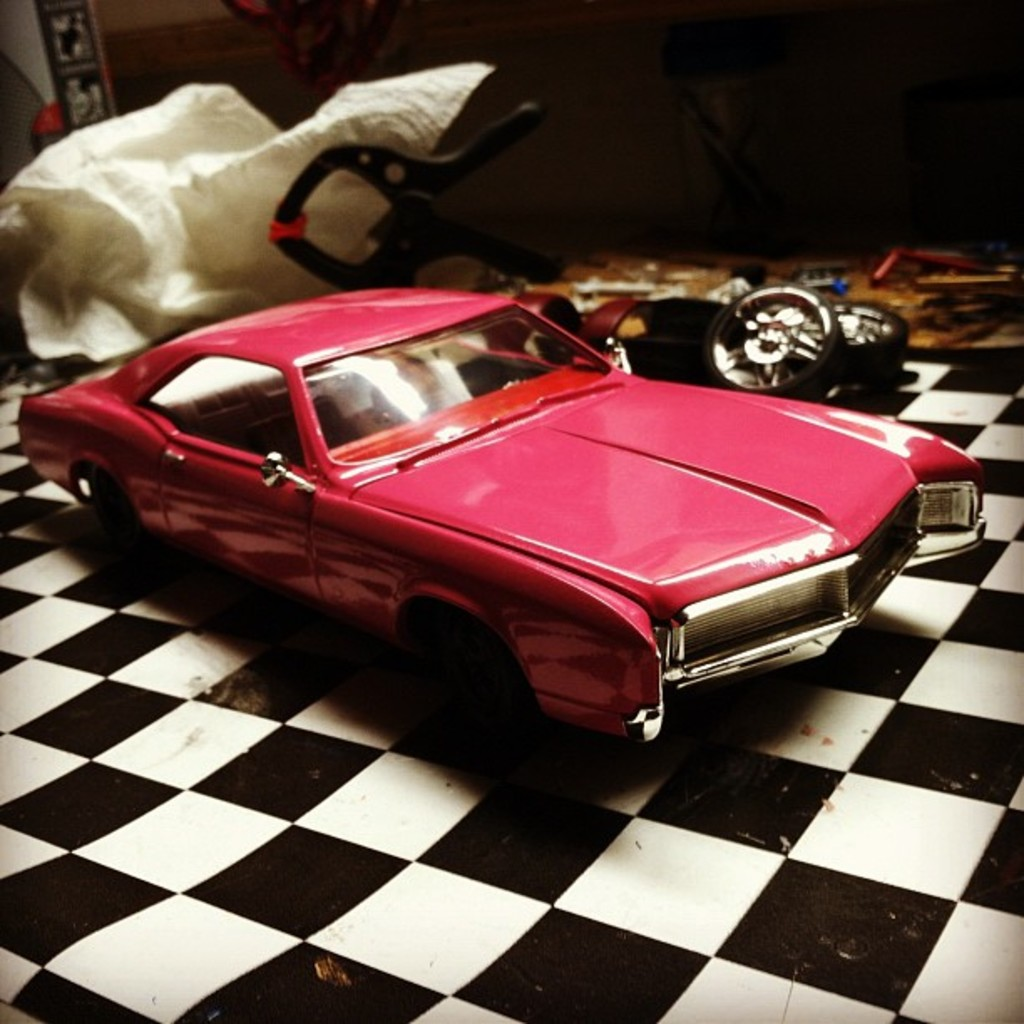Car: (15, 287, 990, 732)
